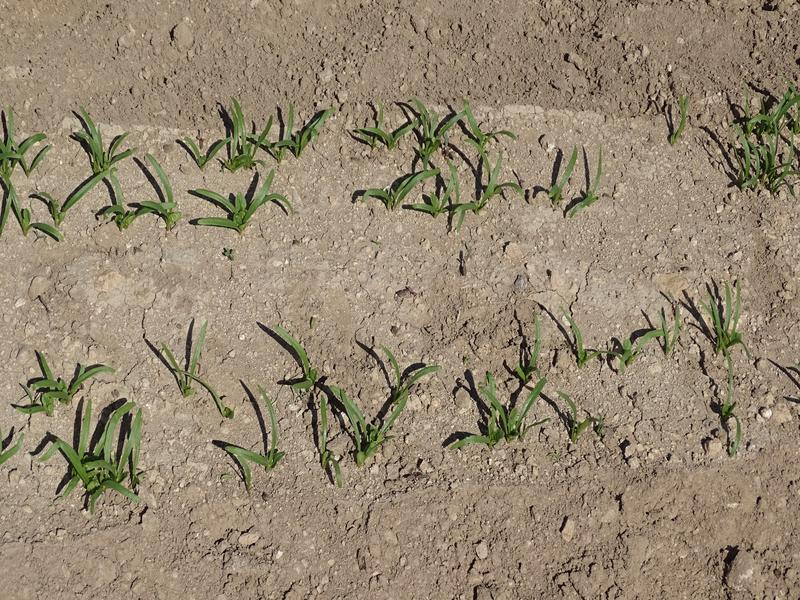Espinaca: (477, 281, 753, 442), (360, 96, 613, 222), (2, 100, 185, 232), (271, 318, 427, 463), (197, 98, 323, 231), (50, 400, 148, 506), (720, 87, 800, 192), (168, 325, 234, 422), (30, 353, 105, 406), (236, 398, 279, 482)
